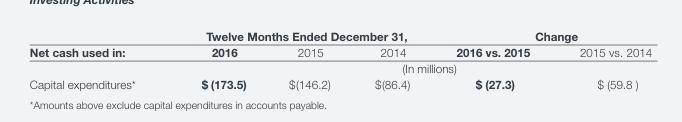table: (28, 28, 651, 90)
table column: (28, 28, 167, 90), (432, 28, 554, 90), (167, 28, 266, 90), (554, 28, 651, 90), (266, 28, 351, 90), (351, 28, 432, 90)
table column header: (28, 28, 651, 75)
table row: (28, 43, 651, 59), (28, 59, 651, 75), (28, 28, 651, 43), (28, 75, 651, 90)
table spanning cell: (167, 59, 651, 75), (28, 28, 167, 75), (167, 28, 432, 43), (432, 28, 651, 43)
